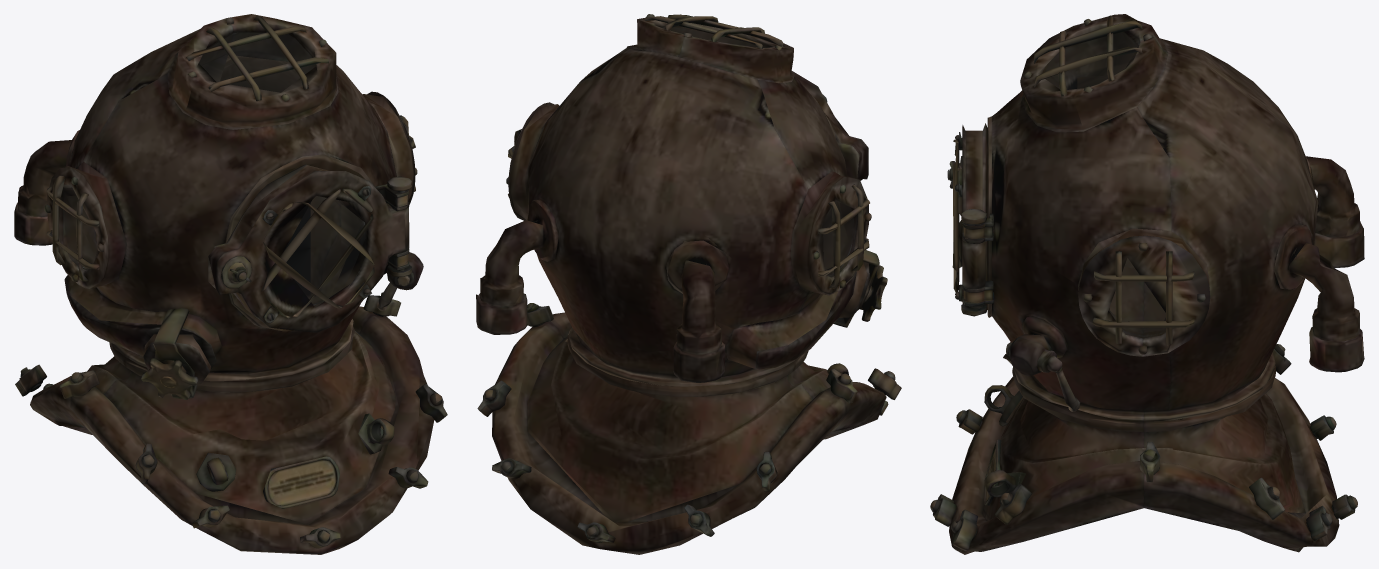
The model's file is helmet.glb.
The picture shows the model from 3 angles, left to right: view 1: azimuth 30°, elevation 25°; view 2: azimuth 150°, elevation 25°; view 3: azimuth 270°, elevation 25°; orthographic projection. The views are drawn at different scales.
Parts seen in each view (by area): view 1: DivingHelmet_DivingHelmet_MTL_0; view 2: DivingHelmet_DivingHelmet_MTL_0; view 3: DivingHelmet_DivingHelmet_MTL_0.
Part boxes in pixels (left/top/right/bottom): DivingHelmet_DivingHelmet_MTL_0: left=14, top=14, right=447, bottom=554; DivingHelmet_DivingHelmet_MTL_0: left=476, top=14, right=901, bottom=554; DivingHelmet_DivingHelmet_MTL_0: left=930, top=14, right=1364, bottom=554.
Size of the model in its own units: 0.3408 by 0.4476 by 0.3507.
1 material, 1 textured.
